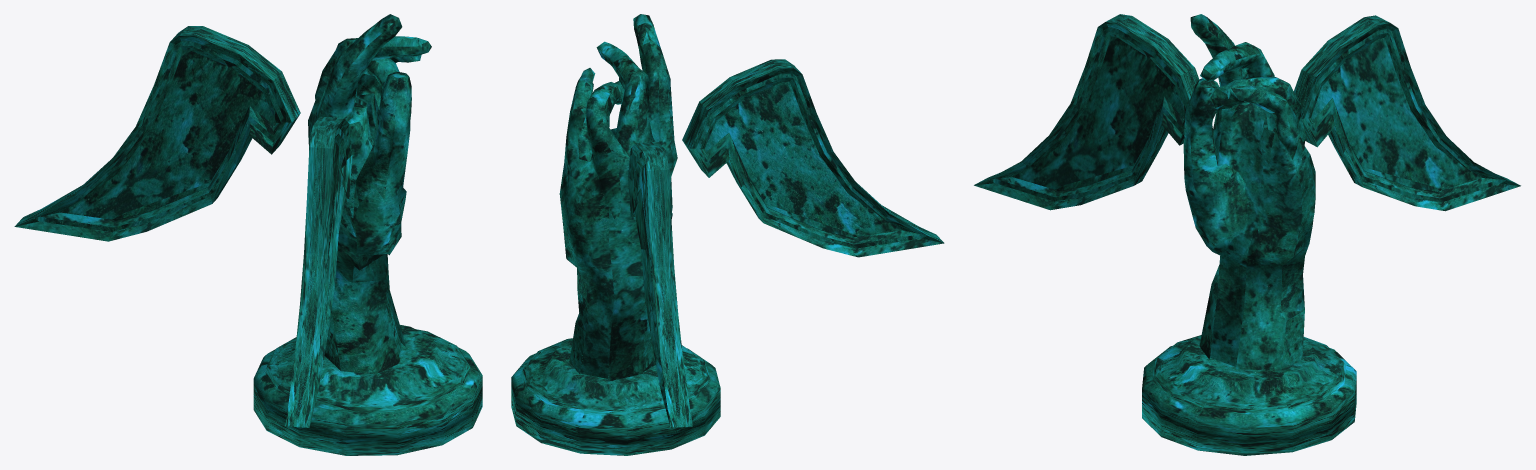
The model's file is savior.glb.
3 views of the same model, side by side, from view 1: azimuth 30°, elevation 25°; view 2: azimuth 150°, elevation 25°; view 3: azimuth 270°, elevation 25° (orthographic). The views are drawn at different scales.
Visible parts, largest first — view 1: Cube.006, Cube.005, Cylinder.006, Cube; view 2: Cube.005, Cube, Cylinder.006, Cube.006; view 3: Cube.005, Cube.006, Cube, Cylinder.006.
Boxes of the visible parts, left/top/right/bottom form: Cube.006: left=14, top=26, right=300, bottom=241; Cube.005: left=308, top=14, right=431, bottom=374; Cylinder.006: left=253, top=325, right=482, bottom=455; Cube: left=285, top=116, right=352, bottom=427; Cube.005: left=559, top=14, right=677, bottom=381; Cube: left=682, top=59, right=944, bottom=257; Cylinder.006: left=511, top=338, right=720, bottom=455; Cube.006: left=628, top=141, right=692, bottom=427; Cube.005: left=1183, top=14, right=1315, bottom=370; Cube.006: left=1294, top=15, right=1520, bottom=211; Cube: left=974, top=14, right=1199, bottom=210; Cylinder.006: left=1142, top=335, right=1356, bottom=455.
Bounding box in the file's own units: 3.22 × 3.99 × 5.02.
Materials: 1 (1 with a texture image).
